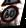Speed Limit -60-: (0, 4, 19, 22)
